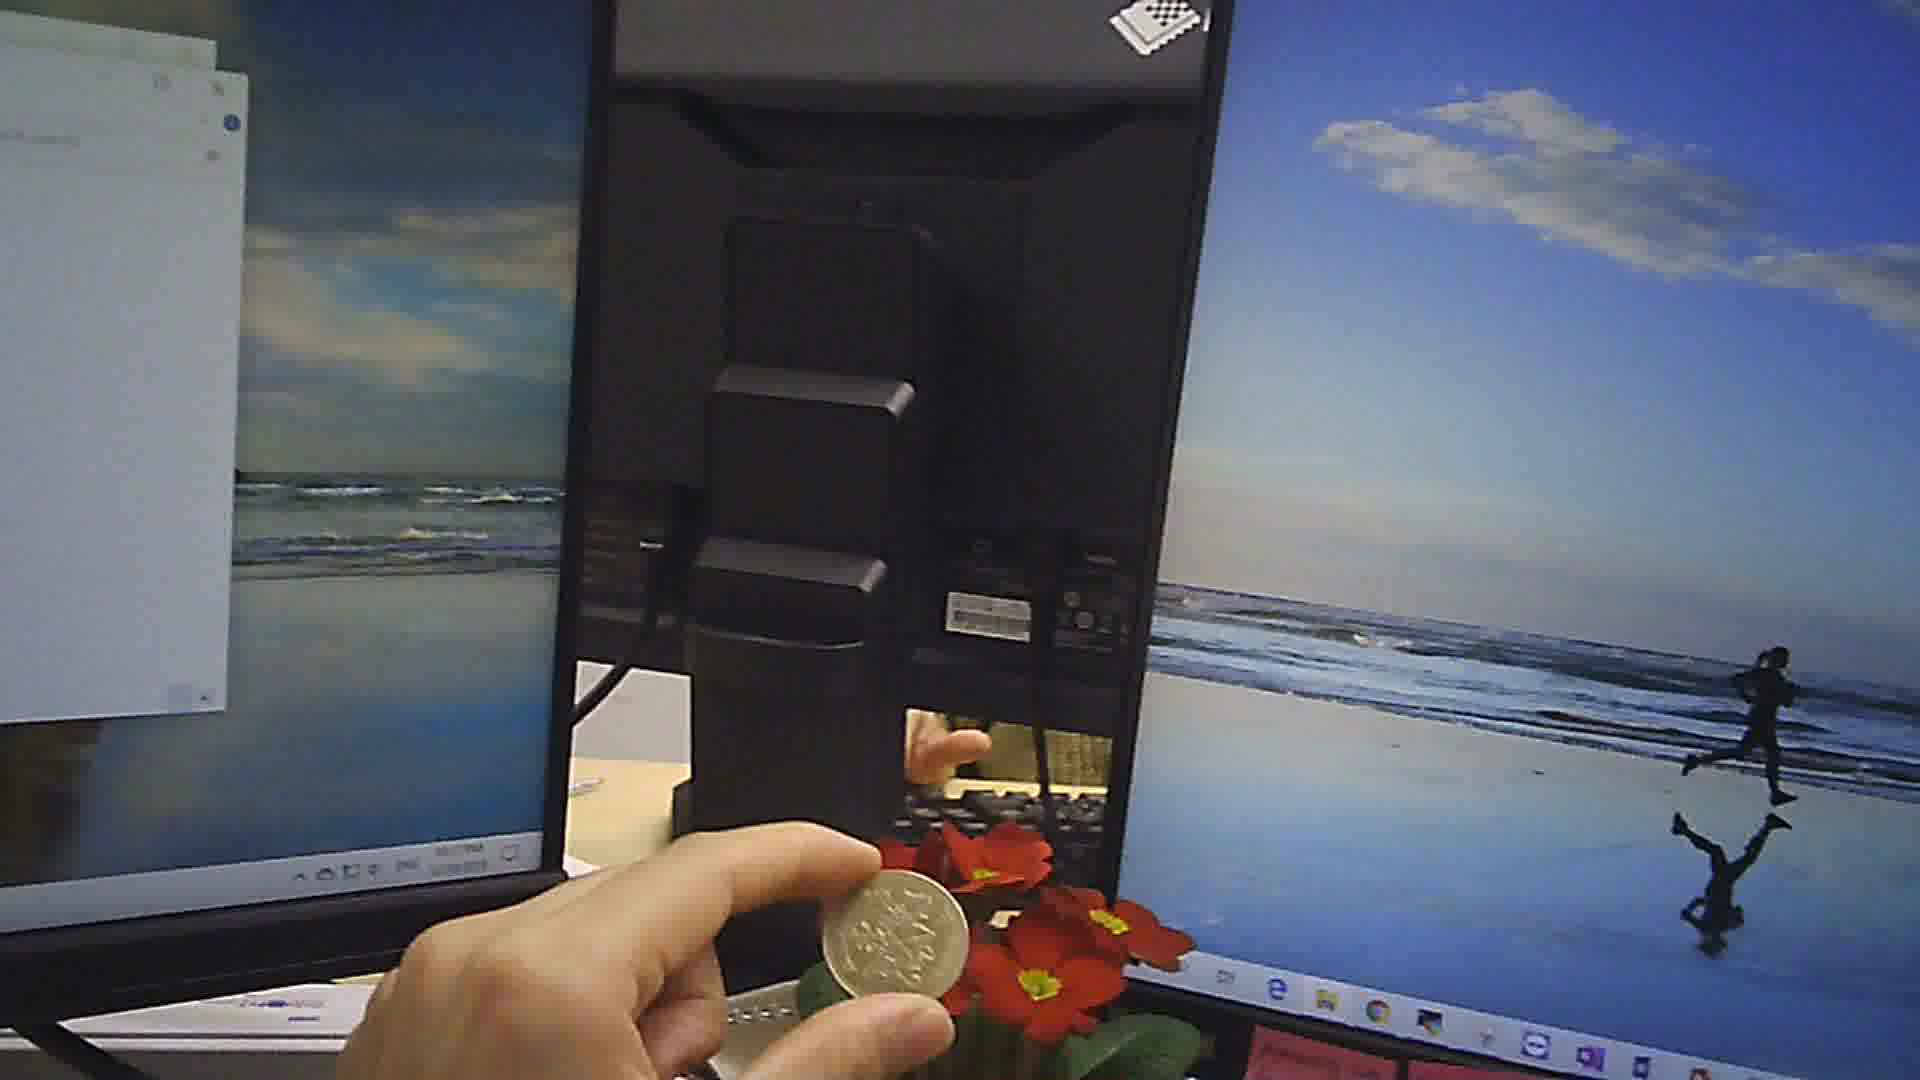500 Yen: (812, 857, 978, 1018)
